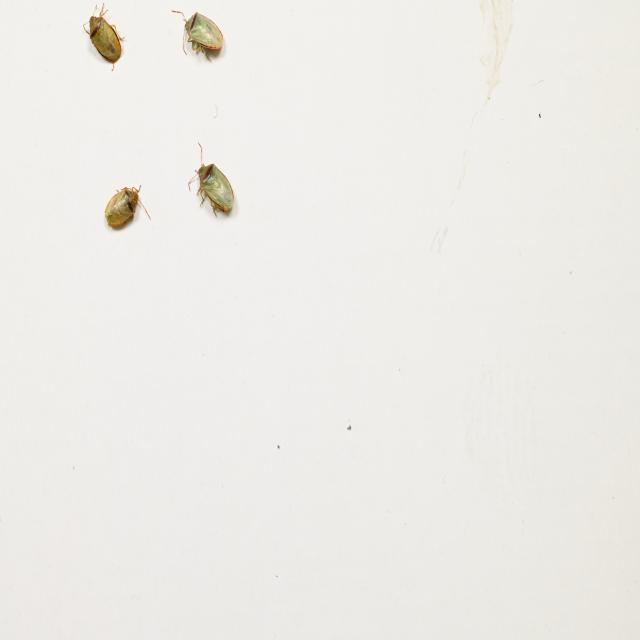stinkbug: (185, 137, 238, 225), (78, 1, 130, 76), (170, 1, 226, 66), (101, 179, 153, 234)
